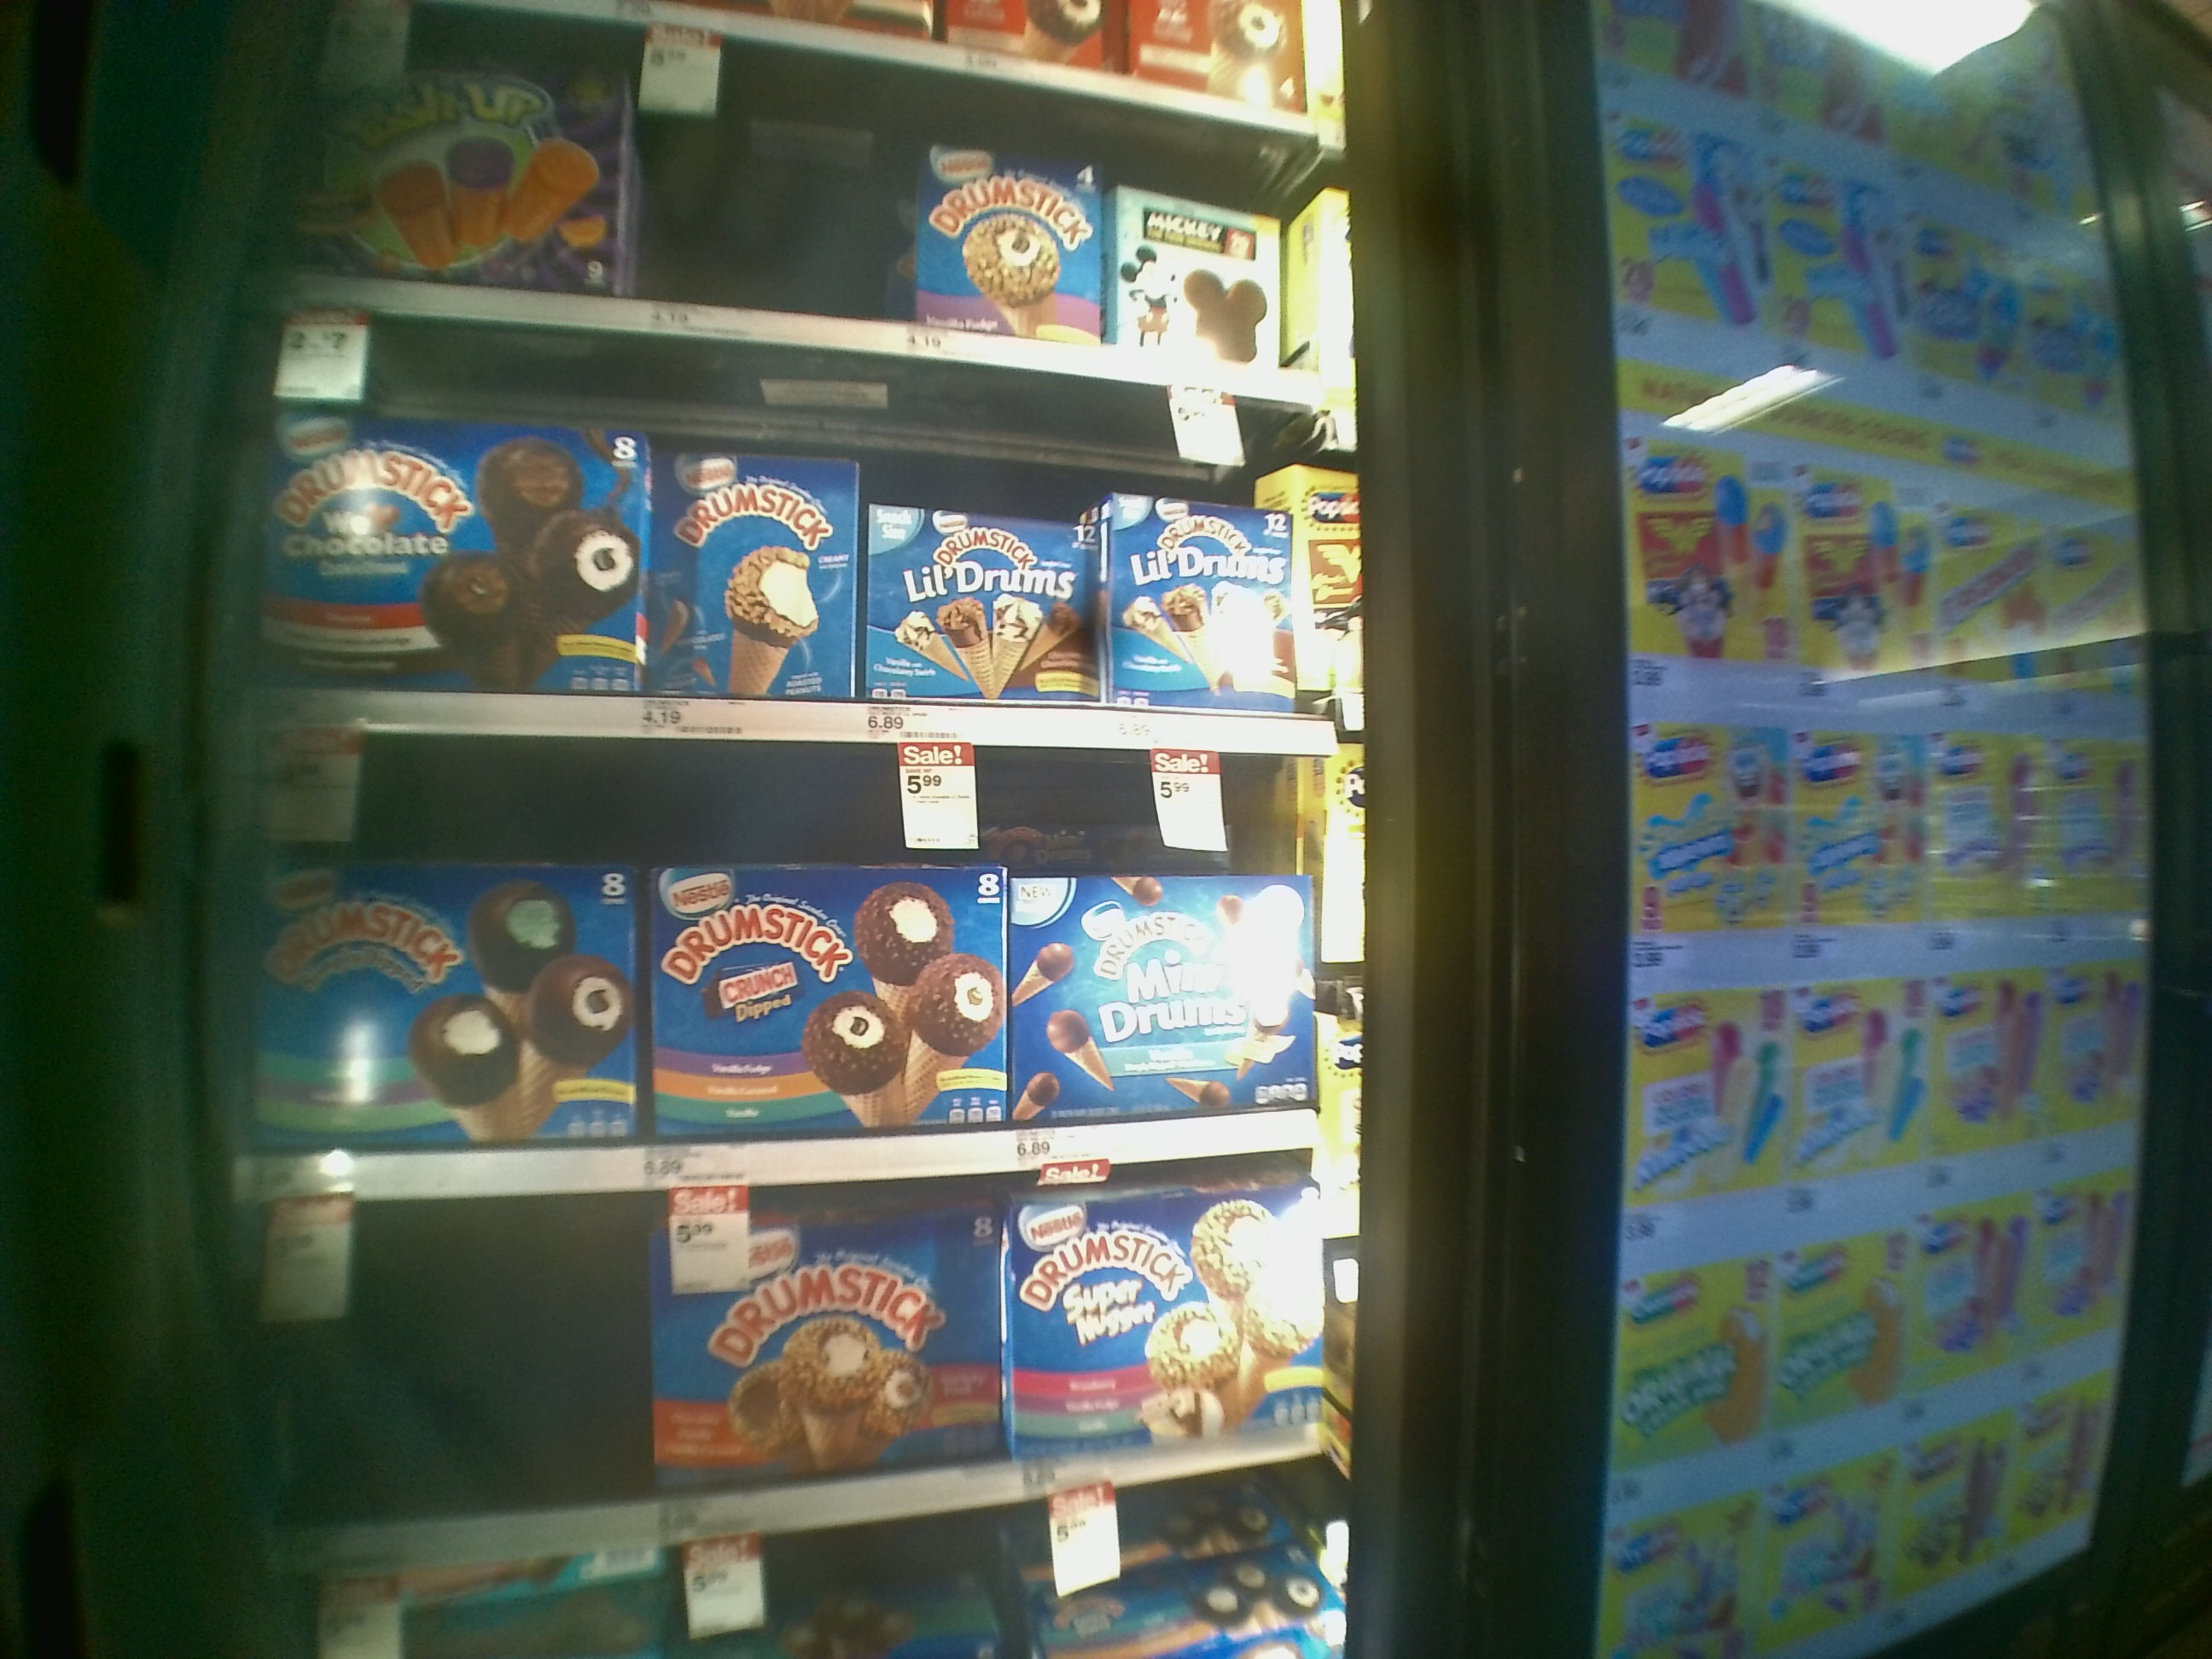shelf: (254, 728, 1348, 1201), (246, 1143, 1359, 1567), (270, 319, 1350, 746)
